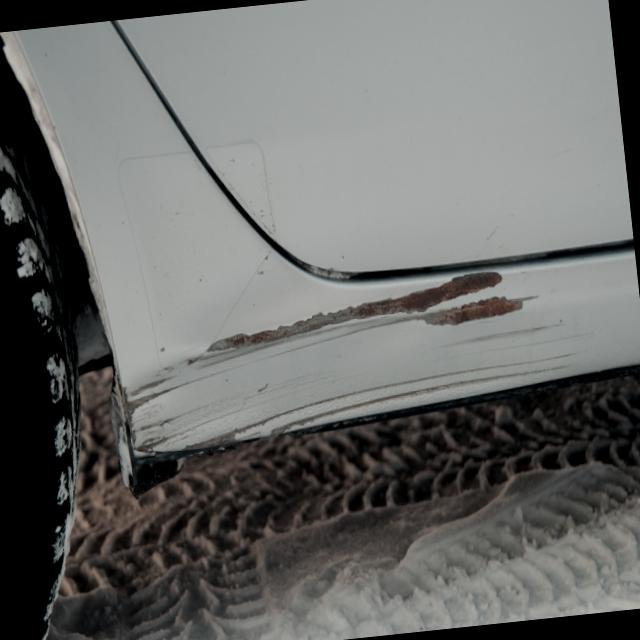Rayure: (108, 255, 629, 476)
